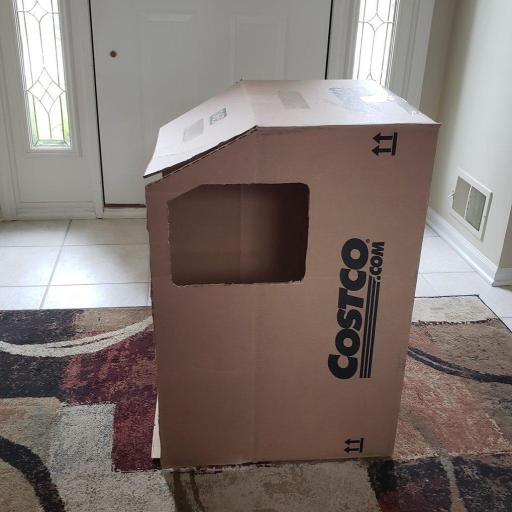cardboard: (142, 78, 442, 469)
